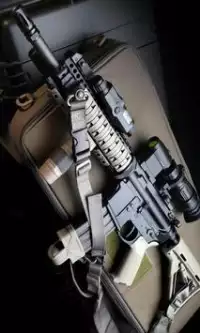rifle: (13, 7, 197, 323)
